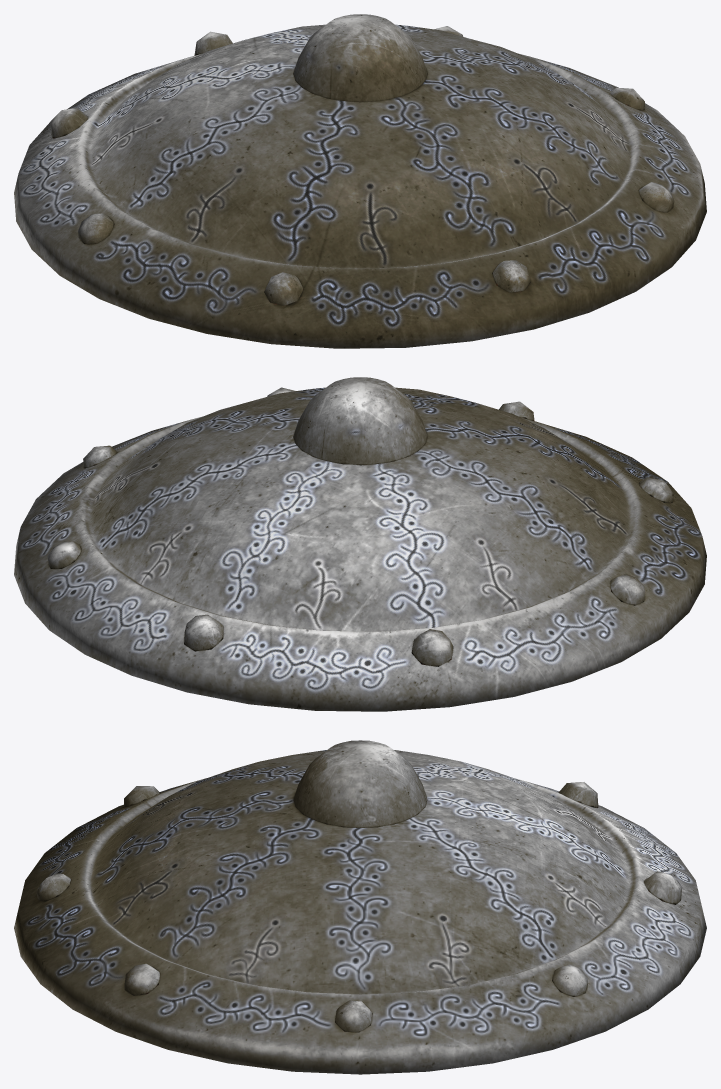
The model's file is Buckler_A.FBX.
3 renders of one model, top to bottom at view 1: azimuth 30°, elevation 25°; view 2: azimuth 150°, elevation 25°; view 3: azimuth 270°, elevation 25°, orthographic.
Parts seen in each view (by area): view 1: Bulcker_A; view 2: Bulcker_A; view 3: Bulcker_A.
Part boxes in pixels (x1,y1,x2,y2): Bulcker_A: [14, 14, 706, 348]; Bulcker_A: [14, 377, 706, 711]; Bulcker_A: [14, 740, 706, 1074].
Size of the model in its own units: 37.96 by 11.13 by 37.96.
